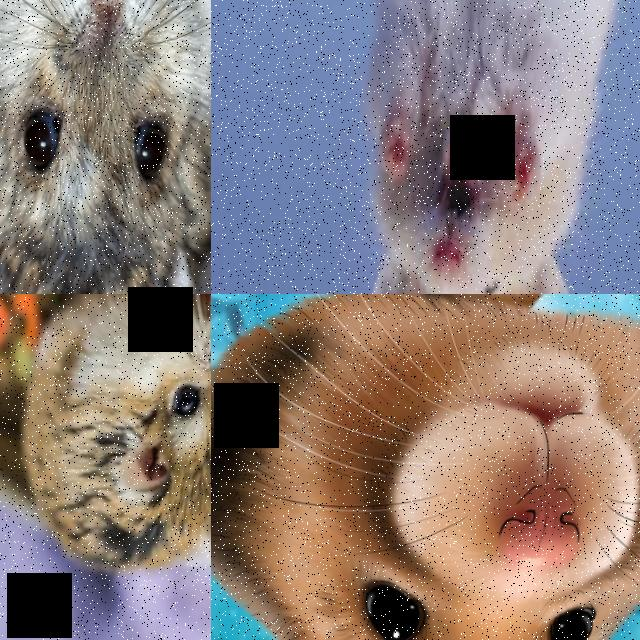hamster: (211, 294, 640, 640), (358, 0, 640, 294), (0, 0, 211, 294), (13, 294, 211, 583)
